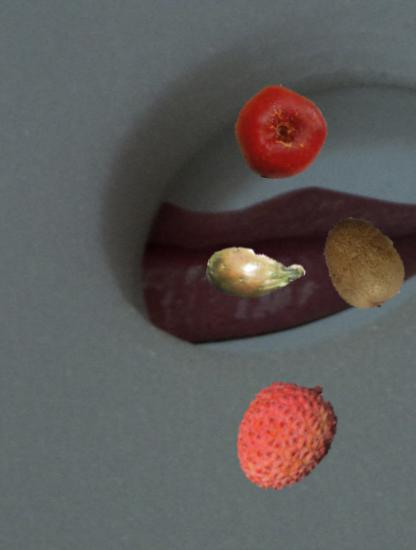Cactus: (206, 226, 305, 325)
Kiwi: (314, 216, 409, 311)
Lychee: (224, 371, 347, 494)
Nectarine: (233, 85, 329, 181)
